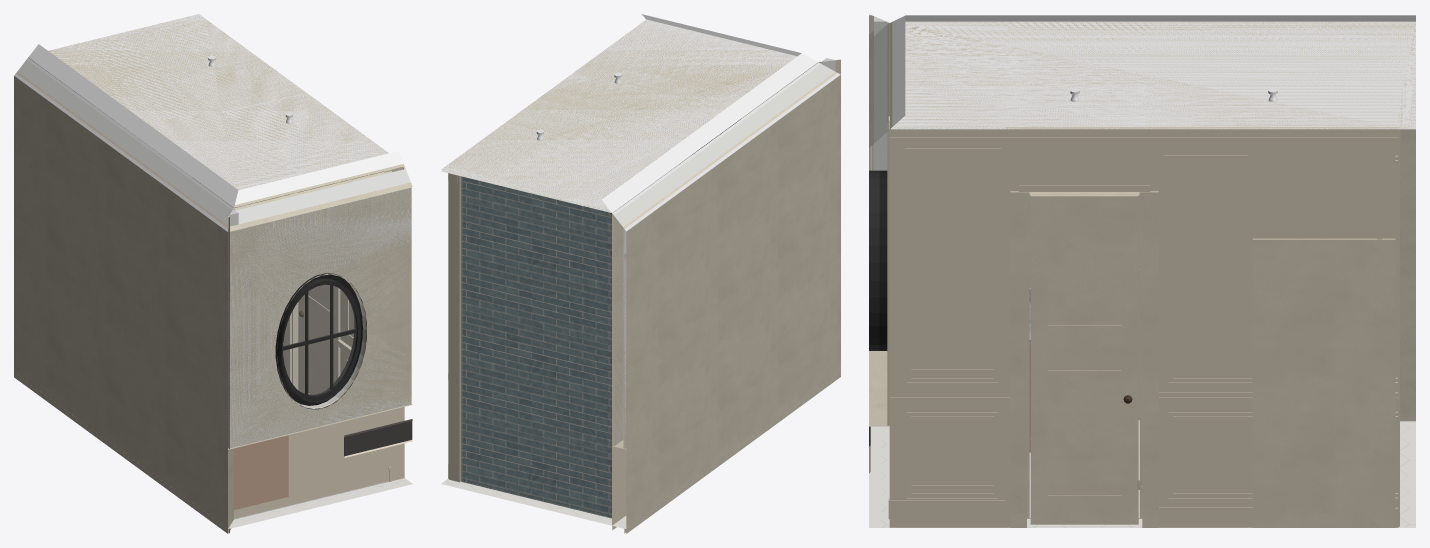
The model's file is blue-bath-554d55699c9c.glb.
The picture shows the model from 3 angles, left to right: view 1: azimuth 30°, elevation 25°; view 2: azimuth 150°, elevation 25°; view 3: azimuth 270°, elevation 25°; orthographic projection. The views are drawn at different scales.
Visible parts, largest first — view 1: blue-bath-312b4ac1be39223d, blue-bath-bddaf205afbd60c0, blue-bath-e8793759323e04f0, blue-bath-9d91b47435c6fb33, blue-bath-33ee0b466567e5f0, blue-bath-df3e1f21720b0c39, blue-bath-d227da791438a32f, blue-bath-2f7d8eff34a2c180, blue-bath-39b94aca90fa4b53, blue-bath-bb2a37e95c56944b, blue-bath-bf159a19de53e60e, blue-bath-64753ebcb3824a84 (+7 smaller); view 2: blue-bath-312b4ac1be39223d, blue-bath-81319d6284883901, blue-bath-9d91b47435c6fb33, blue-bath-e8793759323e04f0, blue-bath-33ee0b466567e5f0, blue-bath-39b94aca90fa4b53, blue-bath-ed5fdcd3ee9c0dd5, blue-bath-3a4d9d62ecd7be1c, blue-bath-6e269356ae8bfd70, blue-bath-0e16aad907f7d881, blue-bath-6852ef8a5e690845; view 3: blue-bath-9d91b47435c6fb33, blue-bath-ed5fdcd3ee9c0dd5, blue-bath-36d4ad77e969c235, blue-bath-bf159a19de53e60e, blue-bath-3e649b0d114ae387, blue-bath-e8793759323e04f0, blue-bath-8798d08755b4aa77, blue-bath-8f5d8501f6e548f5, blue-bath-6e269356ae8bfd70, blue-bath-0e16aad907f7d881, blue-bath-d8e4d1e2b1f6ec6c, blue-bath-d227da791438a32f (+18 smaller).
Part boxes in pixels (x1,y1,x2,y2): blue-bath-312b4ac1be39223d: [14, 73, 229, 449]; blue-bath-bddaf205afbd60c0: [230, 182, 411, 447]; blue-bath-e8793759323e04f0: [30, 14, 403, 204]; blue-bath-9d91b47435c6fb33: [28, 14, 404, 207]; blue-bath-33ee0b466567e5f0: [14, 293, 228, 533]; blue-bath-df3e1f21720b0c39: [229, 184, 412, 448]; blue-bath-d227da791438a32f: [275, 273, 366, 409]; blue-bath-2f7d8eff34a2c180: [228, 404, 412, 533]; blue-bath-39b94aca90fa4b53: [17, 60, 238, 226]; blue-bath-bb2a37e95c56944b: [234, 435, 288, 509]; blue-bath-bf159a19de53e60e: [298, 183, 335, 394]; blue-bath-64753ebcb3824a84: [235, 169, 410, 407]; blue-bath-312b4ac1be39223d: [624, 59, 840, 449]; blue-bath-81319d6284883901: [462, 176, 611, 518]; blue-bath-9d91b47435c6fb33: [441, 19, 817, 212]; blue-bath-e8793759323e04f0: [442, 14, 815, 210]; blue-bath-33ee0b466567e5f0: [612, 293, 840, 533]; blue-bath-39b94aca90fa4b53: [614, 58, 835, 447]; blue-bath-ed5fdcd3ee9c0dd5: [449, 173, 460, 482]; blue-bath-3a4d9d62ecd7be1c: [612, 61, 821, 446]; blue-bath-6e269356ae8bfd70: [441, 170, 618, 524]; blue-bath-0e16aad907f7d881: [441, 478, 626, 528]; blue-bath-6852ef8a5e690845: [623, 59, 837, 448]; blue-bath-9d91b47435c6fb33: [890, 21, 1415, 129]; blue-bath-ed5fdcd3ee9c0dd5: [1005, 127, 1399, 526]; blue-bath-36d4ad77e969c235: [1252, 238, 1395, 527]; blue-bath-bf159a19de53e60e: [1030, 195, 1138, 524]; blue-bath-3e649b0d114ae387: [889, 121, 1005, 499]; blue-bath-e8793759323e04f0: [892, 15, 1415, 126]; blue-bath-8798d08755b4aa77: [1010, 191, 1158, 527]; blue-bath-8f5d8501f6e548f5: [889, 129, 1398, 146]; blue-bath-6e269356ae8bfd70: [1398, 127, 1415, 527]; blue-bath-0e16aad907f7d881: [869, 421, 1415, 527]; blue-bath-d8e4d1e2b1f6ec6c: [906, 156, 998, 382]; blue-bath-d227da791438a32f: [869, 170, 887, 350].
Bounding box in the file's own units: 1.8 × 3.04 × 3.6.
26 materials, 6 textured.
